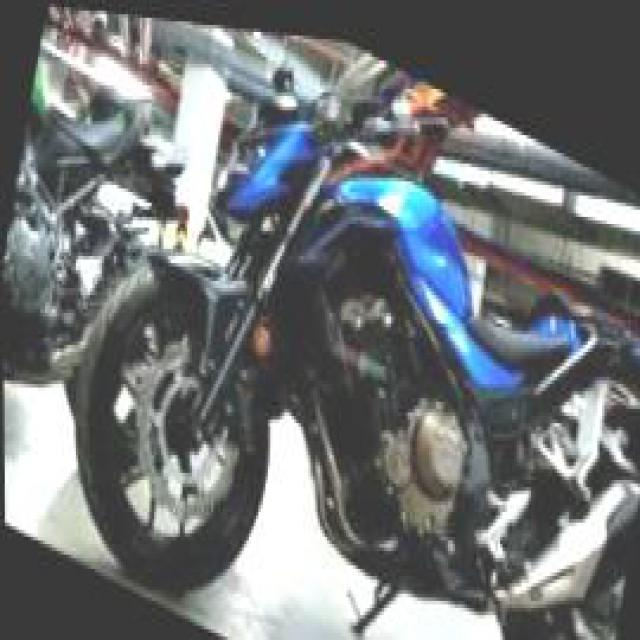CB500F: (40, 4, 638, 636)
